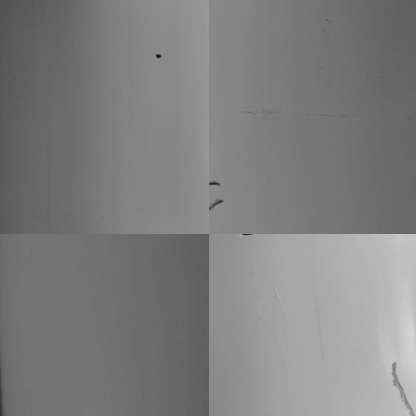fengxi: (211, 197, 228, 210), (209, 178, 225, 187)
kongdong: (153, 52, 163, 60)
sunshang: (388, 356, 411, 410)
